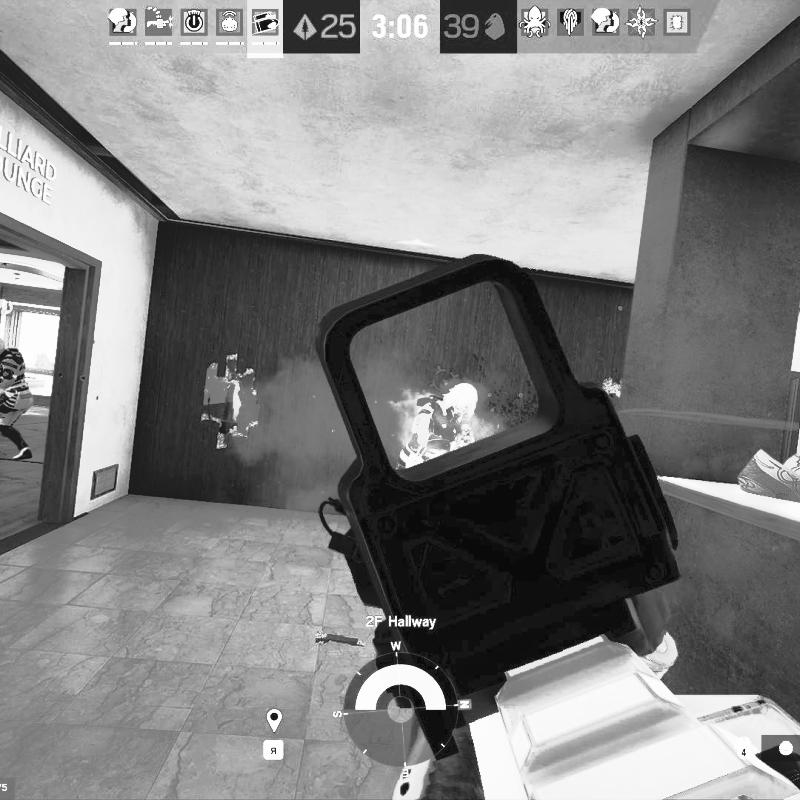Character: (392, 380, 482, 476), (0, 335, 36, 461)
Head: (442, 382, 478, 422), (0, 336, 6, 354)
